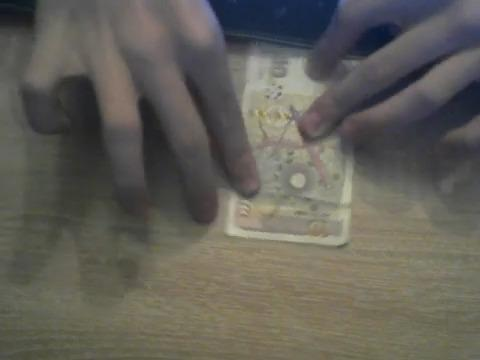10leva: (225, 47, 353, 247)
